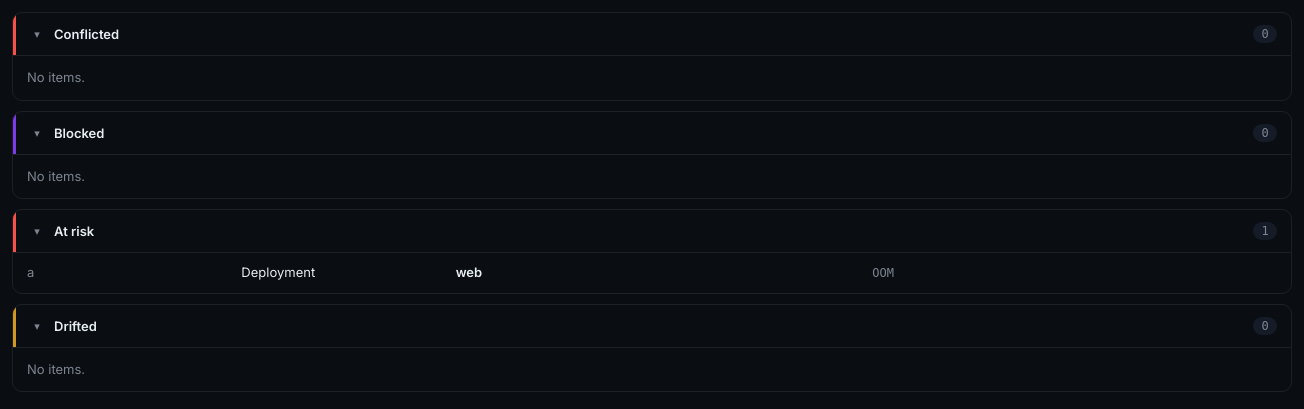
it: AttentionQueue › collapses and reopens a group from its header
Click the button with class "aq-header" showing "▾ At risk 1".
click(74, 231)  # box [13, 210, 1291, 252]
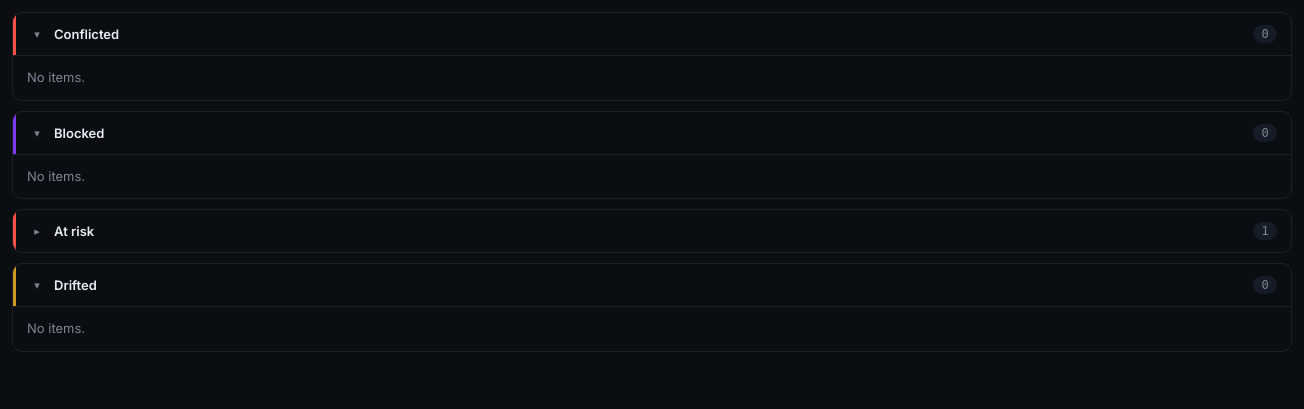
Click the button with class "aq-header" showing "▸ At risk 1".
click(74, 231)  # box [13, 210, 1291, 252]
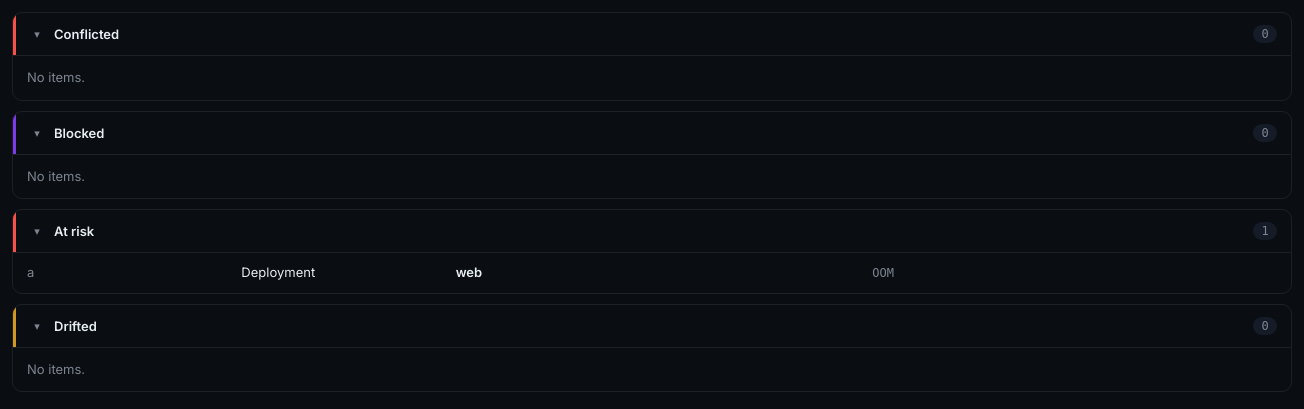
Expected: the link with class "aq-row" is shown, [13, 252, 1291, 292]
